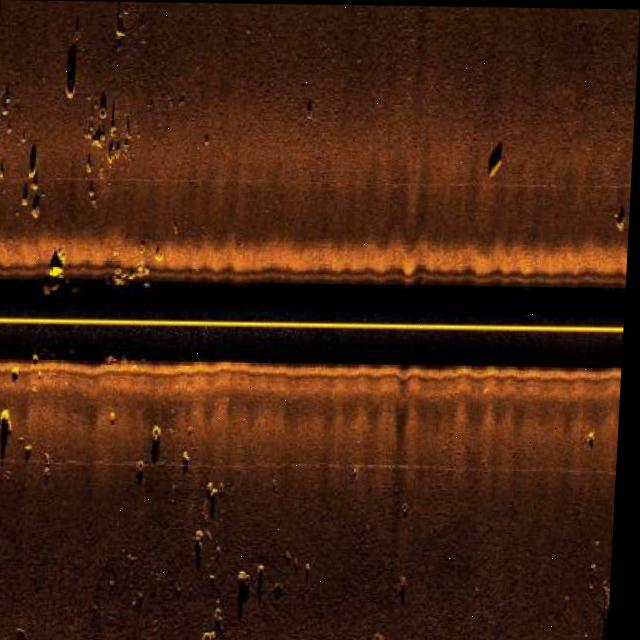mine: (485, 138, 509, 181)
other: (58, 16, 85, 103), (0, 404, 22, 464), (42, 240, 68, 284), (148, 414, 169, 438), (135, 452, 152, 474), (98, 110, 116, 124)
